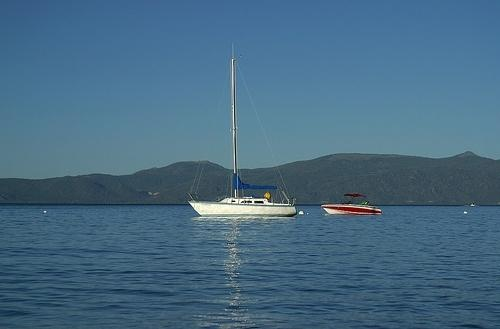boat: (187, 43, 298, 220), (323, 193, 384, 218)
